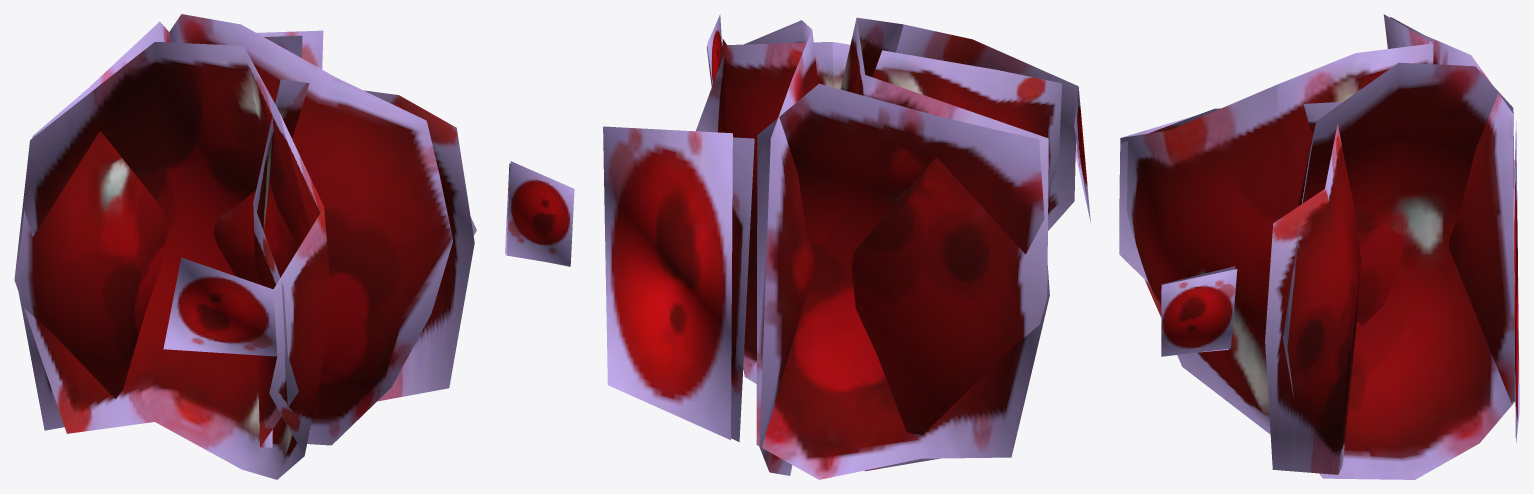
The model's file is Zombie_Broken_Self_Body_d746f6a4__Zombie_Broken_Purple_cee75a00_c1f257.obj.
The picture shows the model from 3 angles, left to right: view 1: azimuth 30°, elevation 25°; view 2: azimuth 150°, elevation 25°; view 3: azimuth 270°, elevation 25°; orthographic projection. The views are drawn at different scales.
Size of the model in its own units: 0.7213 by 0.6704 by 0.5918.
Materials: 1 (1 with a texture image).
